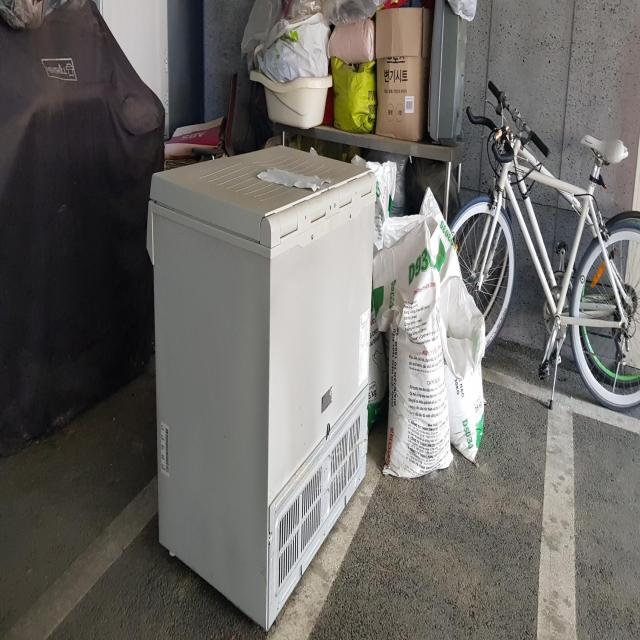refrigerator: (144, 144, 378, 633)
